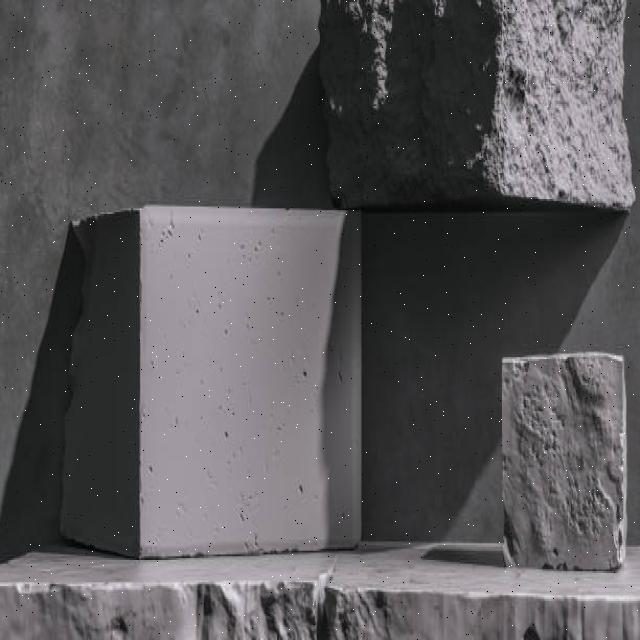Metamorphic: (63, 204, 371, 550), (319, 2, 639, 208), (498, 344, 630, 581)
